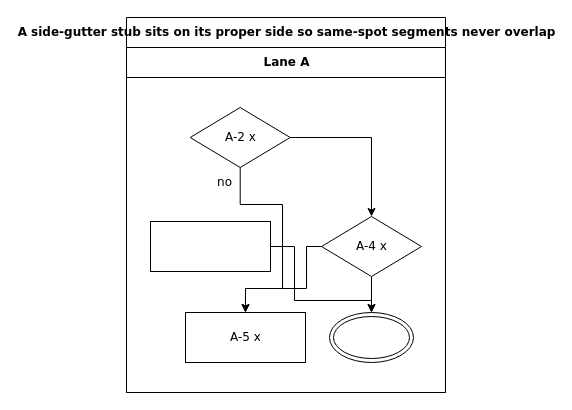
The diagram is 572 pixels wide and 410 high, and some of its shapes have lost their labels. The shapes that lost their labels are listed below. From the top down, each one's box as (x1, y1, x2, y2) in pixels, then its label:
(150, 220, 270, 272): A-3 x
(328, 312, 414, 362): A-6 x
